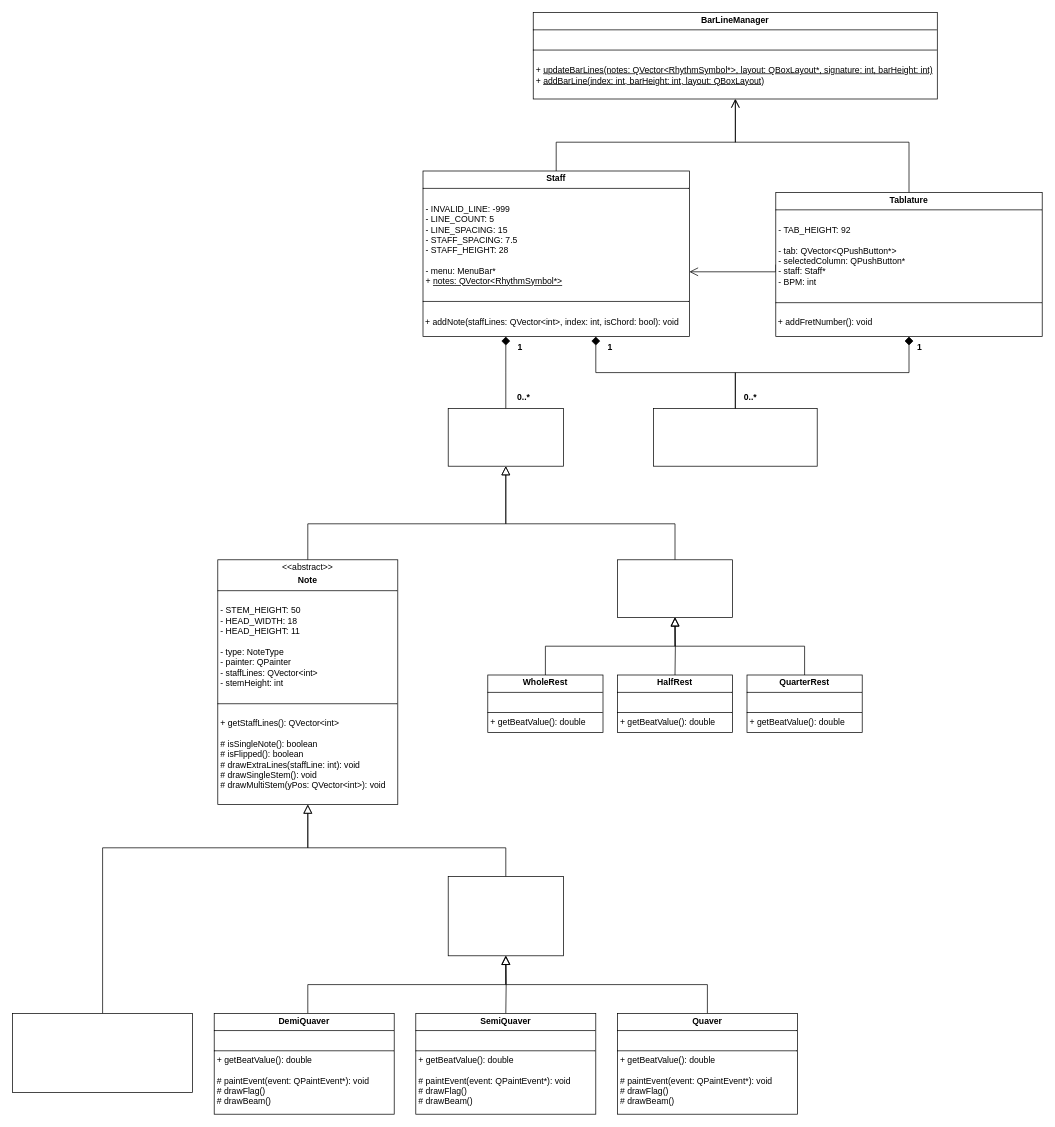
The diagram is 1055 pixels wide and 1127 high, and some of its shapes have lost their labels. Each missing label, with the centre of its shape:
"<<interface>> QuaverFamily # drawFlag(): void # drawBeam(): void" belongs at (505,916).
"<<interface>> Rest" belongs at (675,588).
"<<interface>> RhythmSymbol + getBeatValue(): double" belongs at (505,437).
"BarLine - height: int # paintEvent(event: QPaintEvent*): void" belongs at (735,437).
"Crotchet + getBeatValue(): double # paintEvent(event: QPaintEvent*): void" belongs at (102,1053).
